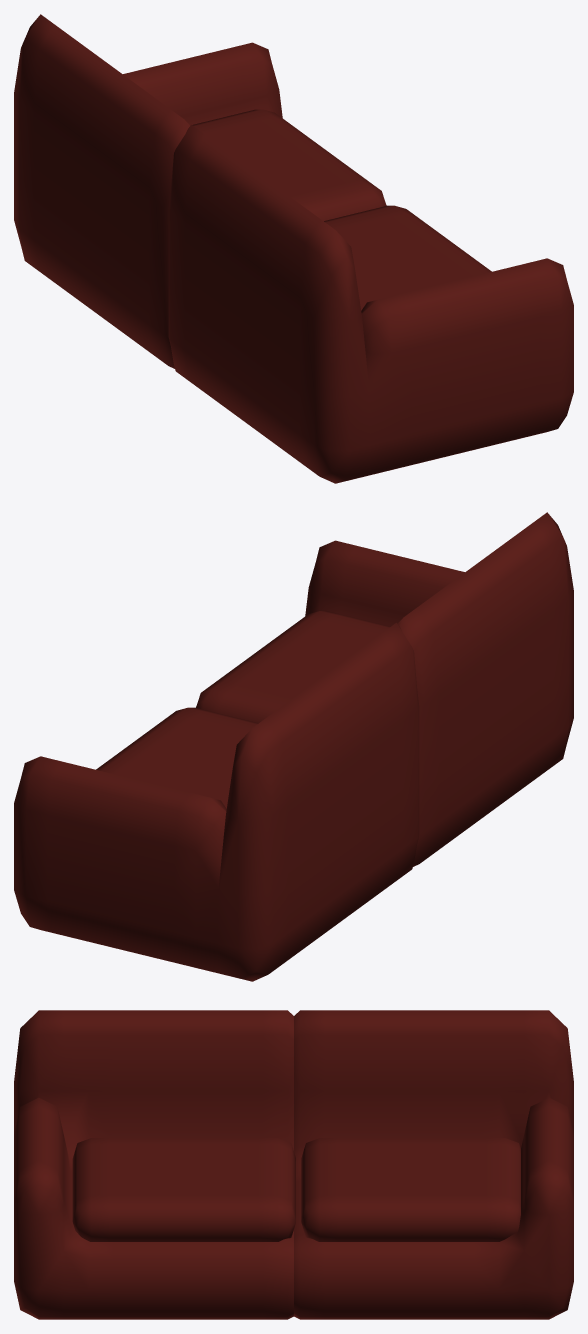
The model's file is Sofa.fbx.
3 renders of one model, top to bottom at view 1: azimuth 30°, elevation 25°; view 2: azimuth 150°, elevation 25°; view 3: azimuth 270°, elevation 25°, orthographic. The views are drawn at different scales.
Visible parts, largest first — view 1: Sofa; view 2: Sofa; view 3: Sofa.
Boxes of the visible parts, box(x1,y1,x2,y2) form: Sofa: box(14, 14, 573, 483); Sofa: box(14, 512, 573, 981); Sofa: box(14, 1010, 573, 1319).
Size of the model in its own units: 32.71 by 31.2 by 72.08.
